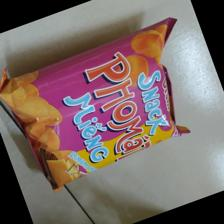Oishi_phomat: (1, 17, 192, 192)
